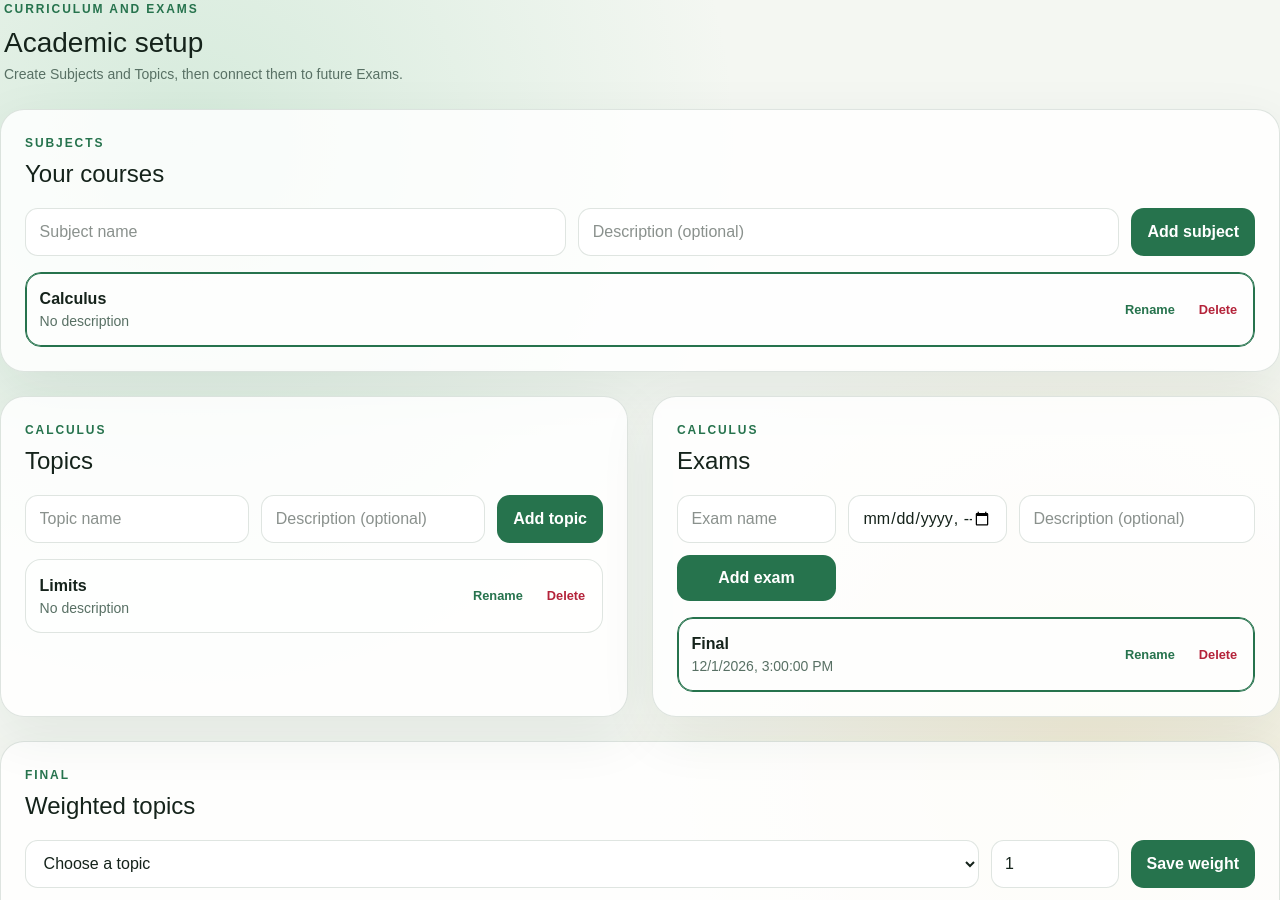
Test case: DomainManager › assigns a weighted topic to an exam
Expected: the heading "Weighted topics" is shown, [25, 792, 195, 818]
Select "Limits" in the dropdown named "Topic to assign" at x=502, y=864, box [25, 840, 978, 888]
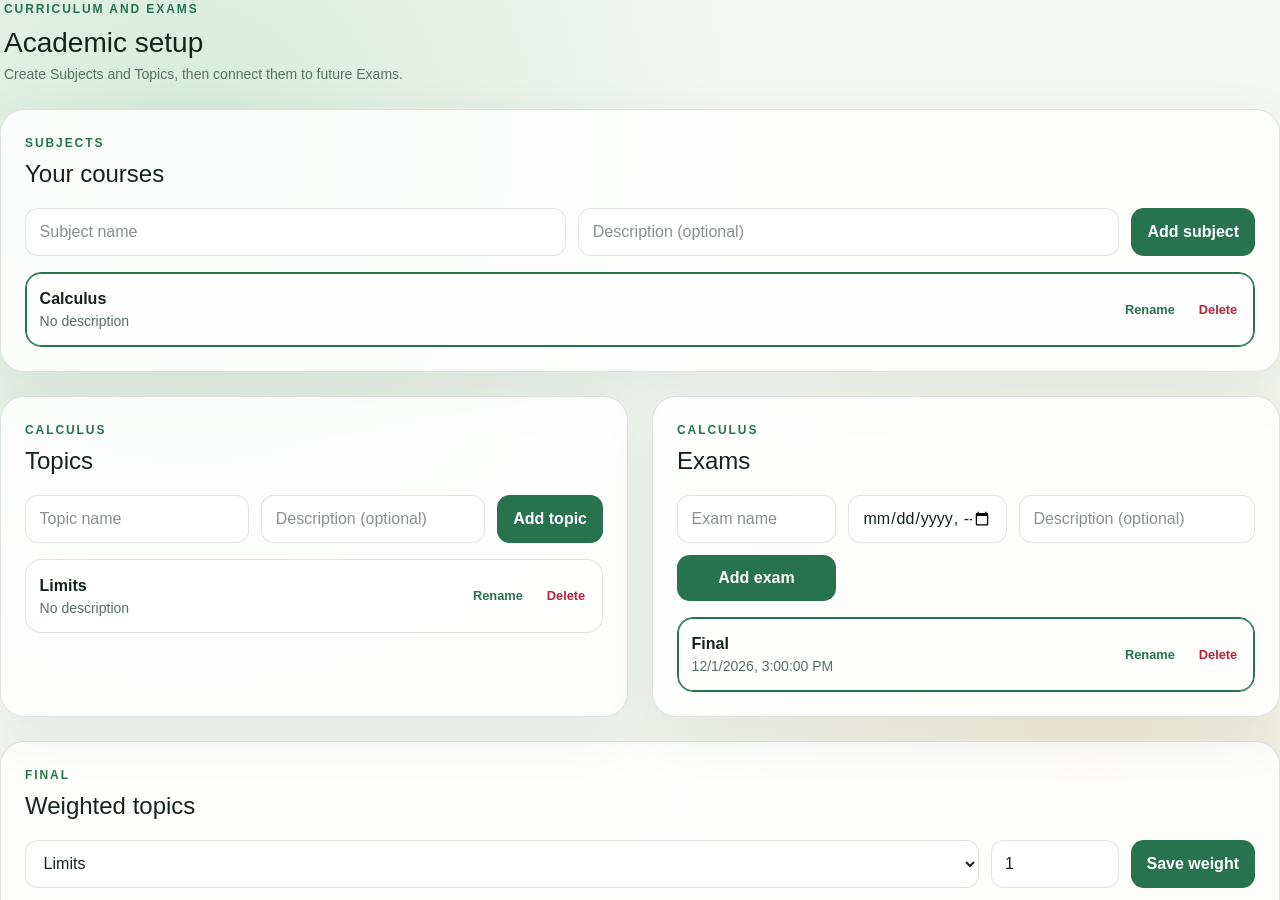
Replace the text in the number field named "Topic weight" with "0.5" at x=1054, y=864, box [990, 840, 1118, 888]
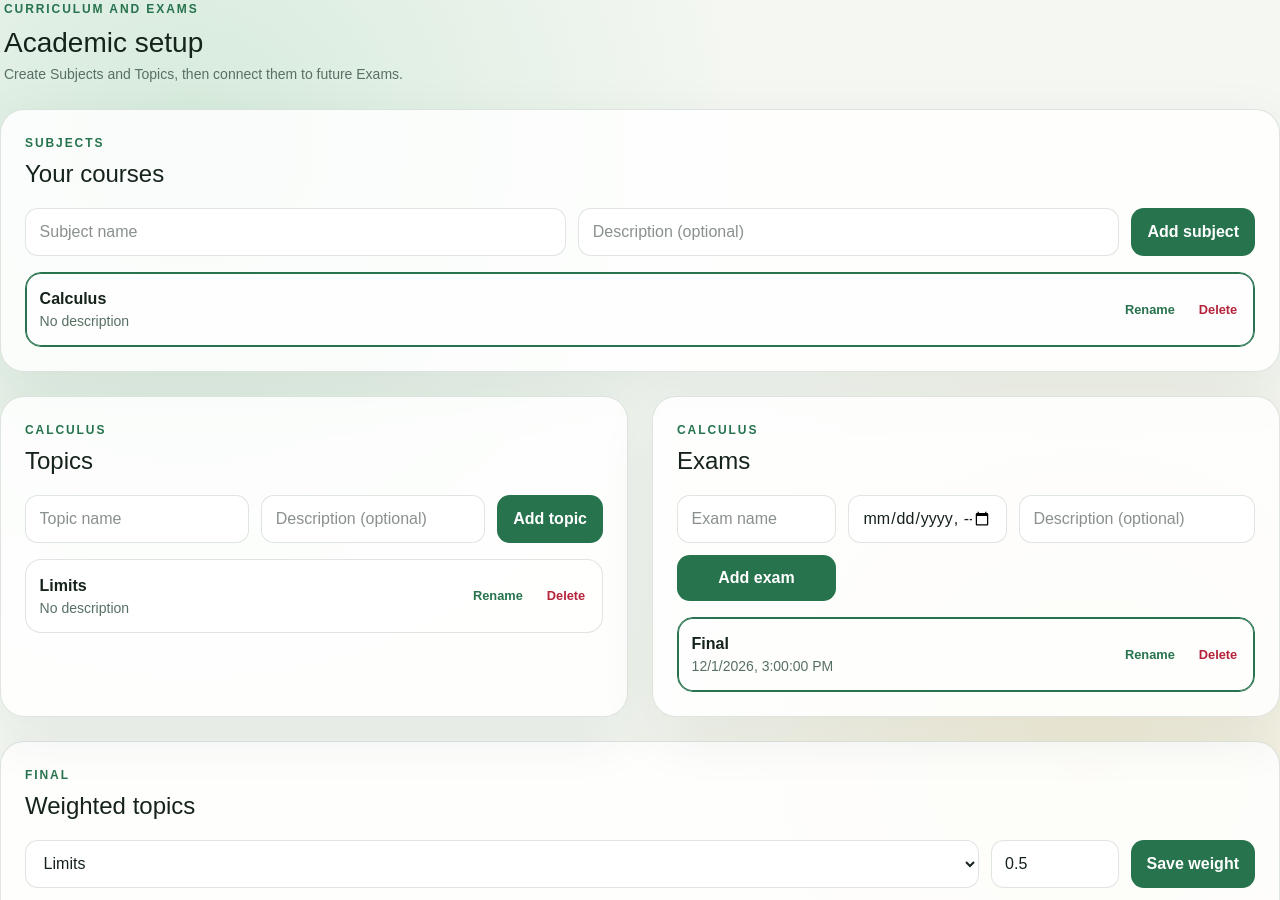
Click the button "Save weight" at x=1193, y=864, box [1130, 840, 1255, 888]
(page scrolled)
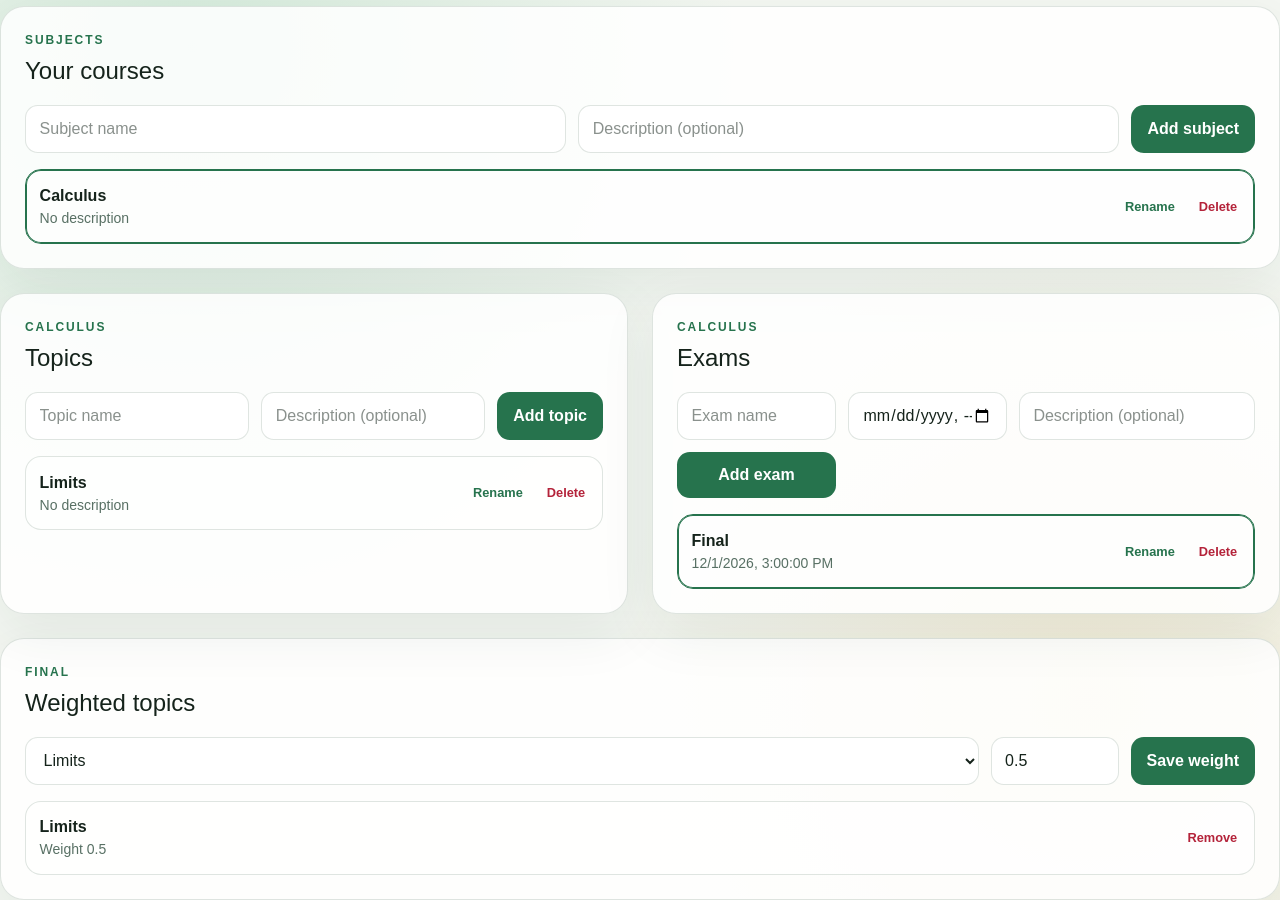
Expected: the text "Weight 0.5" is shown, [40, 840, 106, 860]
